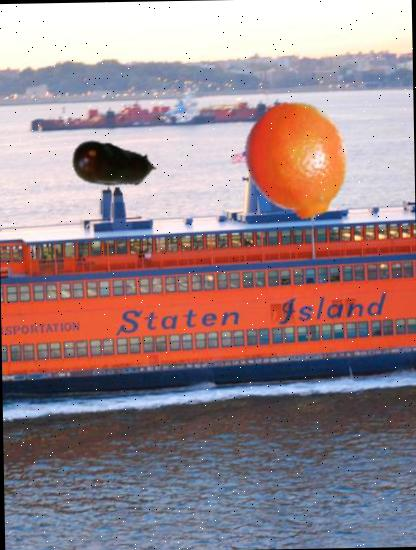Eggplant: (69, 119, 159, 209)
Tangelo: (237, 100, 359, 222)
